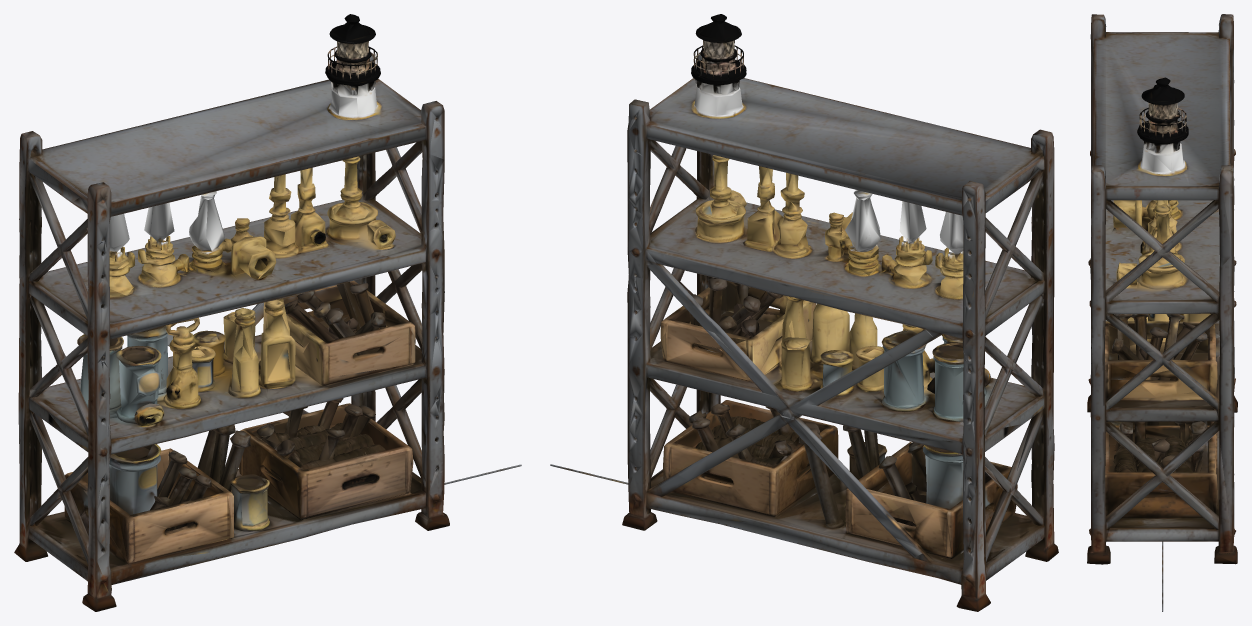
Rendered from lhi_parts_shelf.glb.
3 views of the same model, side by side, from view 1: azimuth 30°, elevation 25°; view 2: azimuth 150°, elevation 25°; view 3: azimuth 270°, elevation 25° (orthographic). The views are drawn at different scales.
Parts seen in each view (by area): view 1: material; view 2: material; view 3: material.
Boxes of the visible parts, <box> form: material: <box>14,14,521,611</box>; material: <box>550,14,1058,611</box>; material: <box>1087,14,1237,611</box>.
Size of the model in its own units: 0.8296 by 0.8414 by 0.2492.
1 material, 1 textured.
